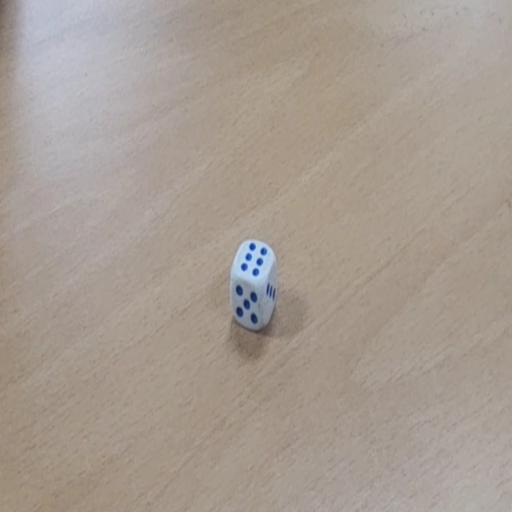dice_6: (228, 238, 280, 335)
